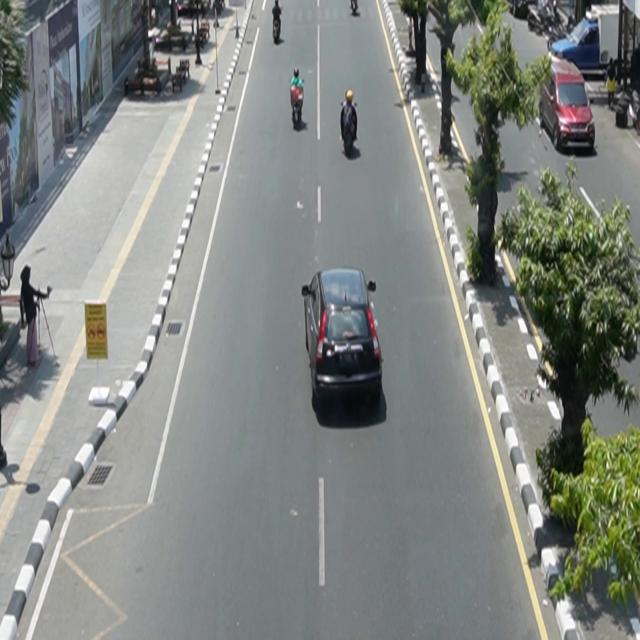car: (302, 268, 384, 407), (540, 54, 596, 152)
